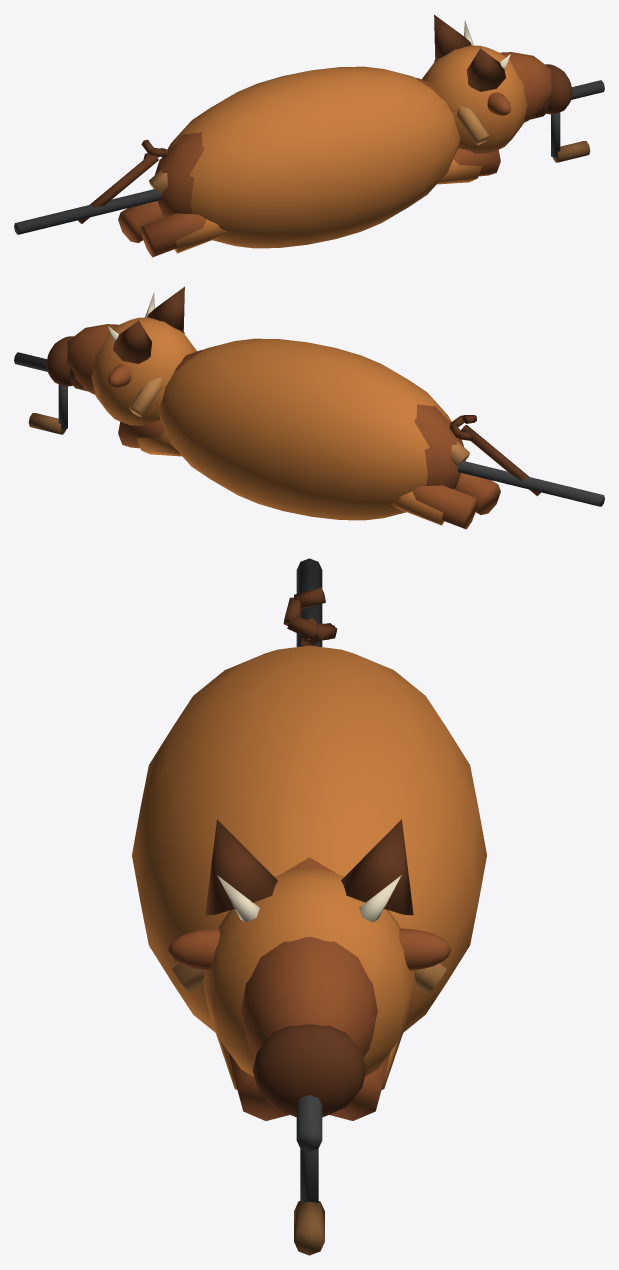
File: rozen.glb
3 renders of one model, top to bottom at view 1: azimuth 30°, elevation 25°; view 2: azimuth 150°, elevation 25°; view 3: azimuth 270°, elevation 25°, orthographic. The views are drawn at different scales.
Parts seen in each view (by area): view 1: snimek_00, snimek_01, snimek_02; view 2: snimek_00, snimek_01, snimek_02; view 3: snimek_00, snimek_01, snimek_02.
Boxes of the visible parts, x1,y1,x2,y2 form: snimek_00: (14, 14, 604, 253); snimek_01: (78, 21, 572, 257); snimek_02: (149, 105, 489, 217); snimek_00: (14, 286, 604, 525); snimek_01: (46, 292, 540, 529); snimek_02: (129, 377, 469, 489); snimek_00: (132, 558, 486, 1255); snimek_01: (167, 618, 451, 1120); snimek_02: (172, 962, 446, 993).
Size of the model in its own units: 1.9 by 0.52 by 0.5.
